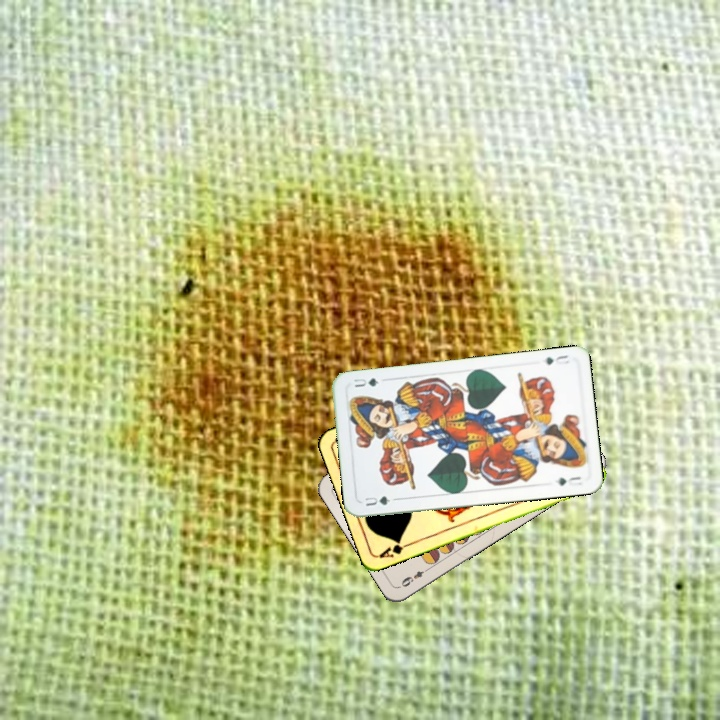E9: (397, 563, 432, 590)
GA: (375, 536, 414, 561)
GU: (361, 492, 399, 509), (541, 351, 572, 367)
